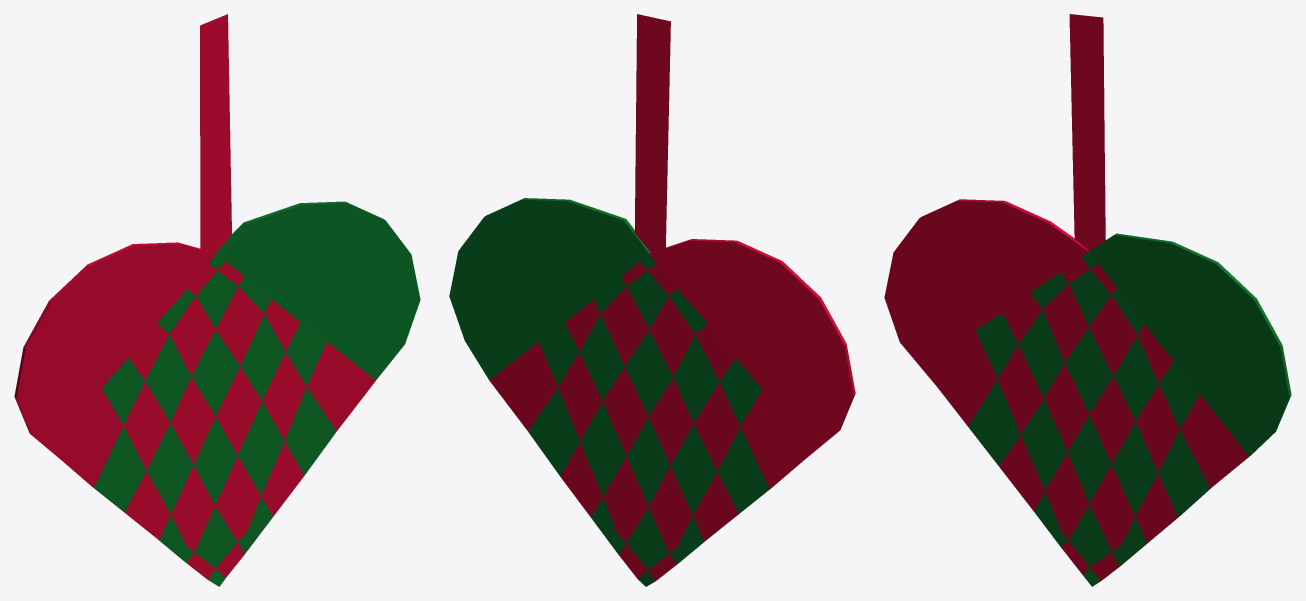
File: heart5.glb
3 views of the same model, side by side, from view 1: azimuth 30°, elevation 25°; view 2: azimuth 150°, elevation 25°; view 3: azimuth 330°, elevation 25° (orthographic).
Parts seen in each view (by area): view 1: heart5; view 2: heart5; view 3: heart5.
Boxes of the visible parts, x1=… form: heart5: x1=14, y1=14, x2=420, y2=586; heart5: x1=449, y1=14, x2=855, y2=586; heart5: x1=884, y1=14, x2=1291, y2=586.
Bounding box in the file's own units: 0.1365 × 0.184 × 0.00321.
